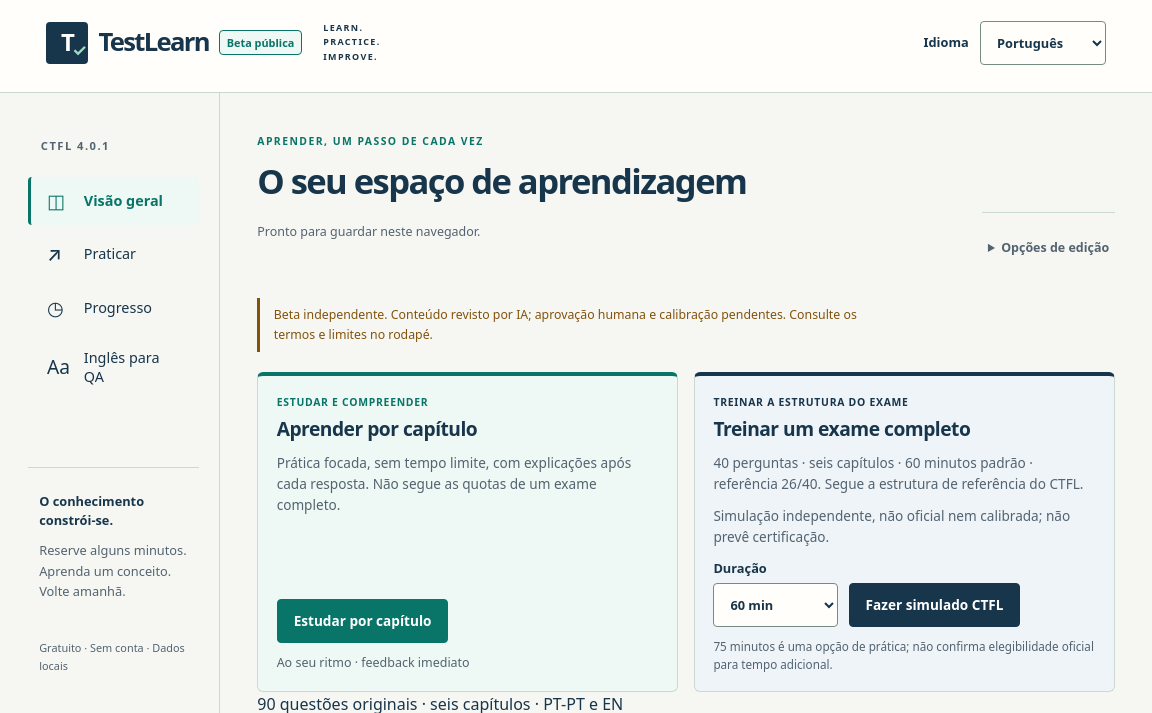
Test case: learning workflows › applies combined practice filters and rejects insufficient eligible counts
Click the button "↗ Praticar" at (114, 254), box [28,230,199,278]
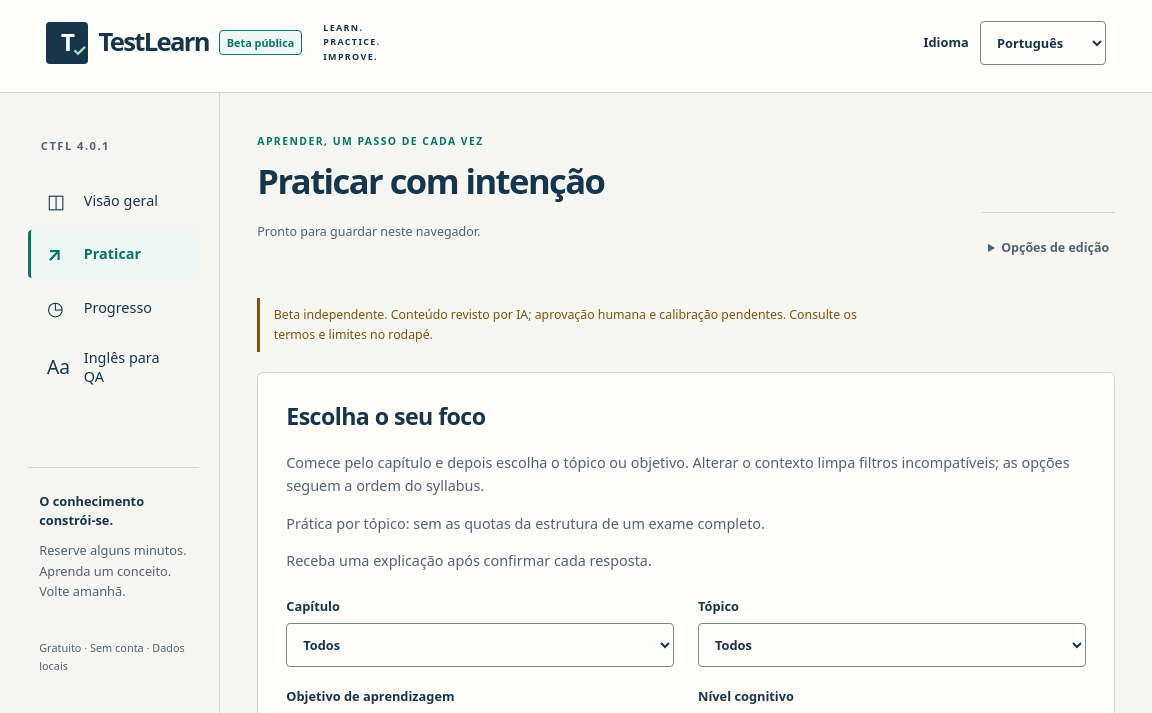
Select "6. Ferramentas de teste" in the dropdown labelled "Capítulo" at (480, 645), box [286,623,674,667]
(page scrolled)
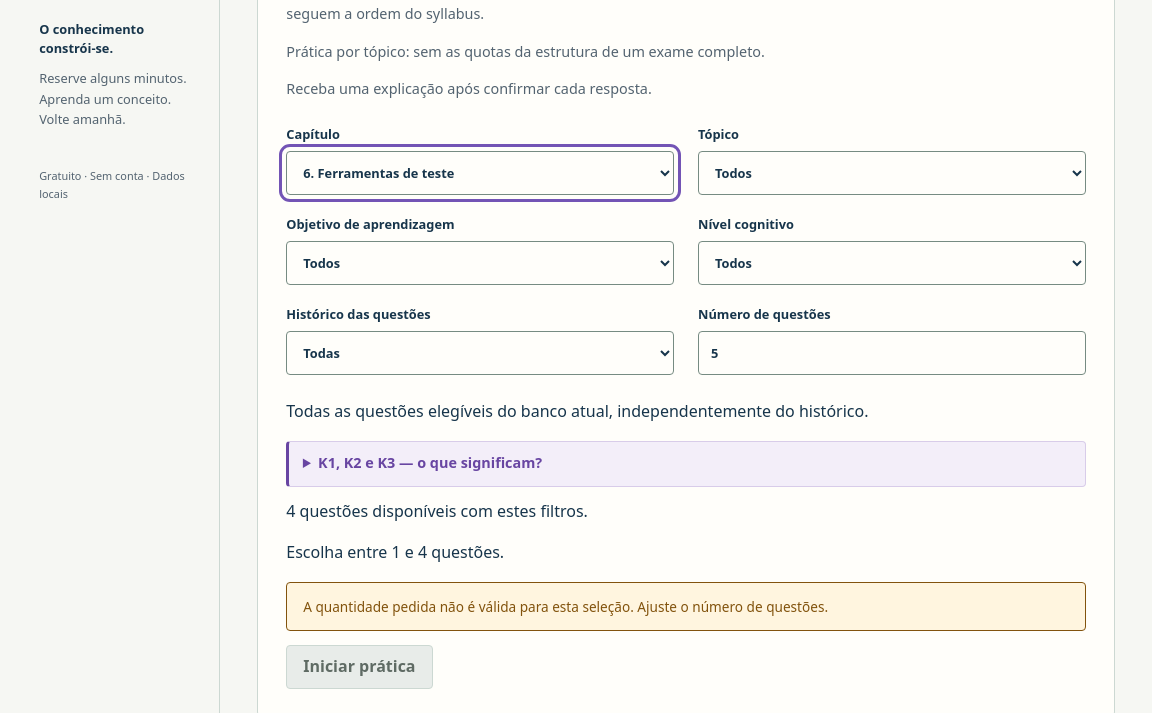
Check: the button "Iniciar prática" is disabled, box [286,645,433,689]
Replace the text in the number field labelled "Número de questões" with "1" at (892, 353), box [698,331,1086,375]
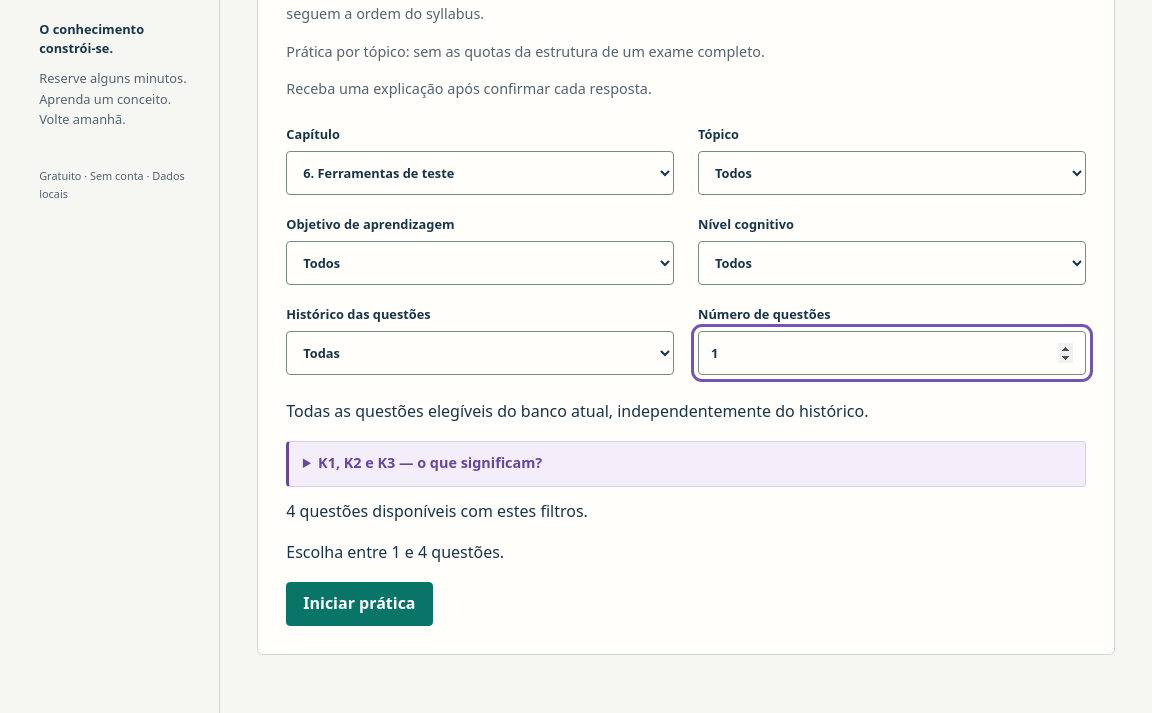
Select "FL-6.1.1 — Explicar como as diferentes ferramentas de teste suportam os testes" in the dropdown labelled "Objetivo de aprendizagem" at (480, 263), box [286,241,674,285]
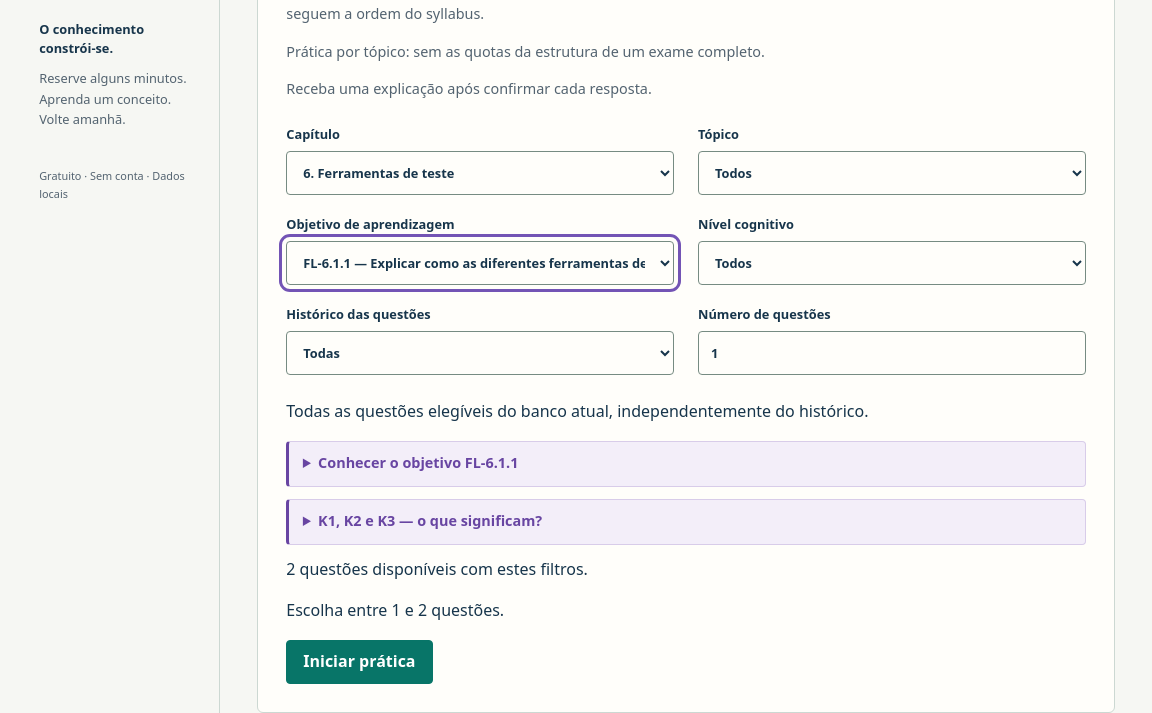
Click the button "Iniciar prática" at (359, 662), box [286,640,433,684]
(page scrolled)
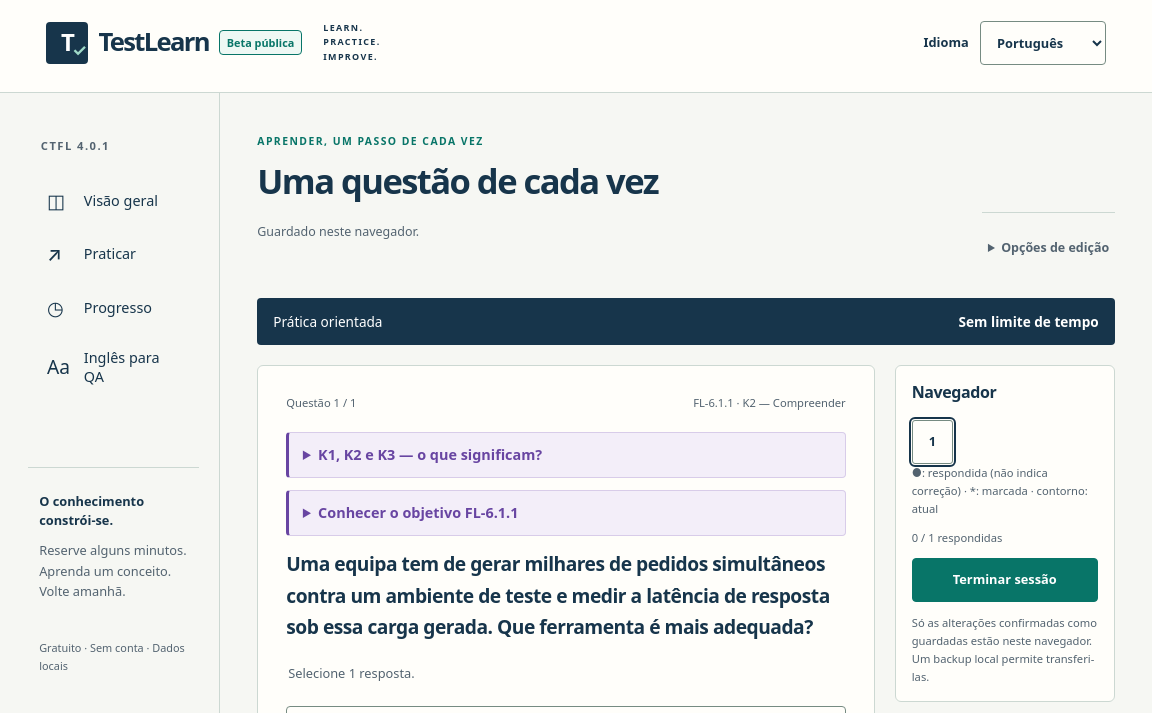
Check: the text "Questão 1 / 1" is shown, box [286,394,356,412]
